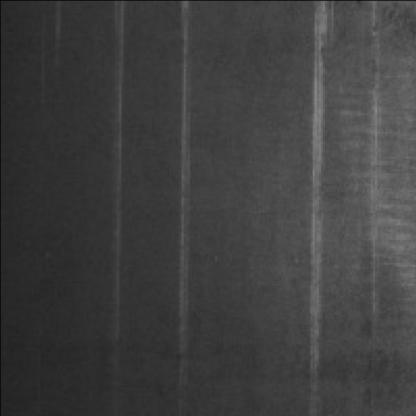scratches: (176, 6, 202, 383), (310, 4, 335, 393), (112, 6, 131, 346)
